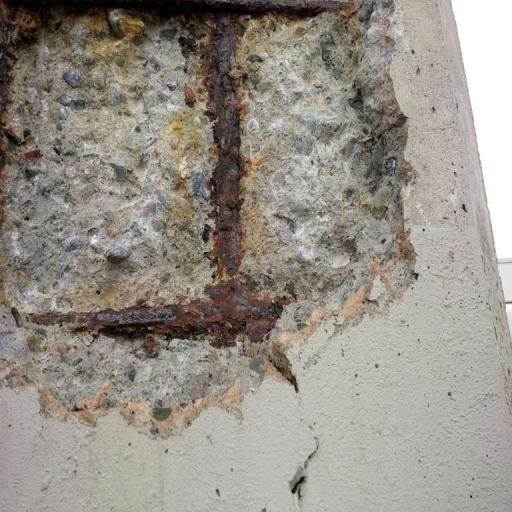spalling: (0, 1, 404, 418)
